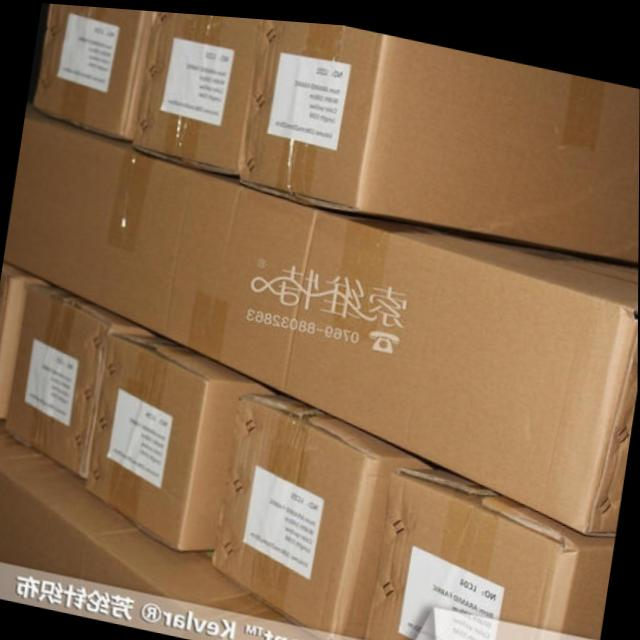box: (5, 111, 639, 526), (240, 15, 640, 254), (0, 419, 296, 620), (213, 389, 437, 632), (365, 463, 616, 640), (86, 333, 280, 548), (3, 284, 157, 474), (131, 9, 264, 170), (32, 3, 152, 142), (0, 261, 55, 419)
